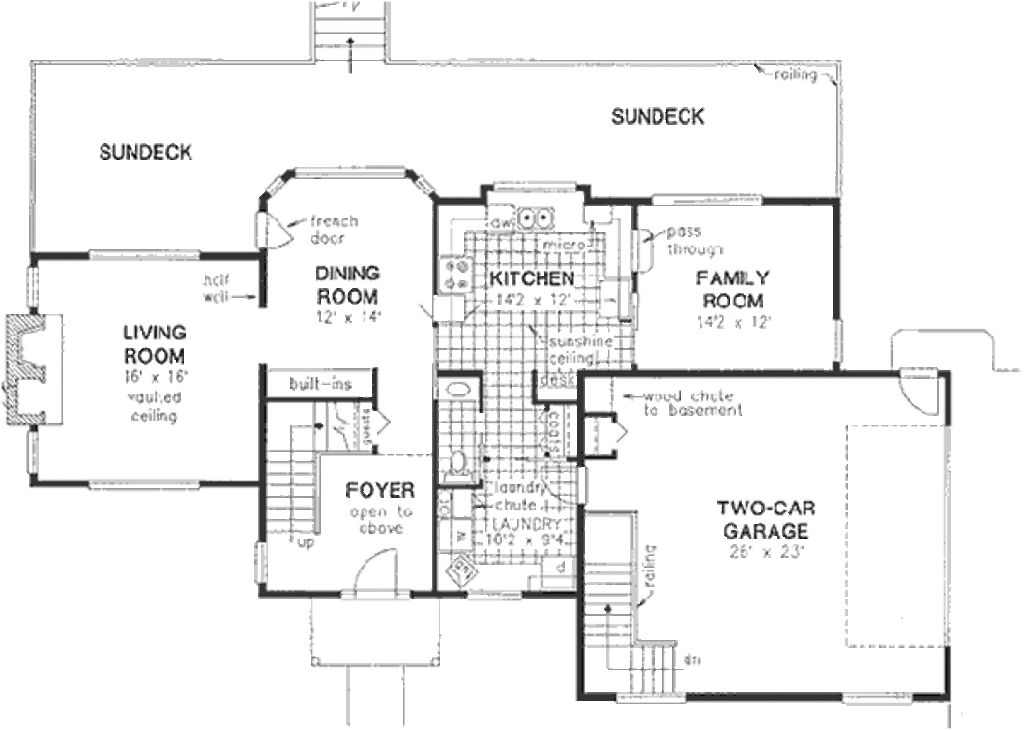door: (342, 540, 414, 599), (893, 363, 943, 419), (251, 209, 296, 251)
large_sink: (432, 448, 479, 487)
small_sink: (441, 372, 482, 399)
stairs: (584, 506, 693, 705), (261, 399, 360, 534), (306, 1, 406, 78)
twin_sink: (506, 202, 559, 233)
window: (650, 191, 770, 211), (84, 477, 205, 493), (834, 685, 912, 709), (86, 249, 205, 264), (292, 164, 408, 178), (20, 424, 45, 478), (245, 542, 276, 585), (829, 314, 850, 368), (23, 260, 42, 312)
